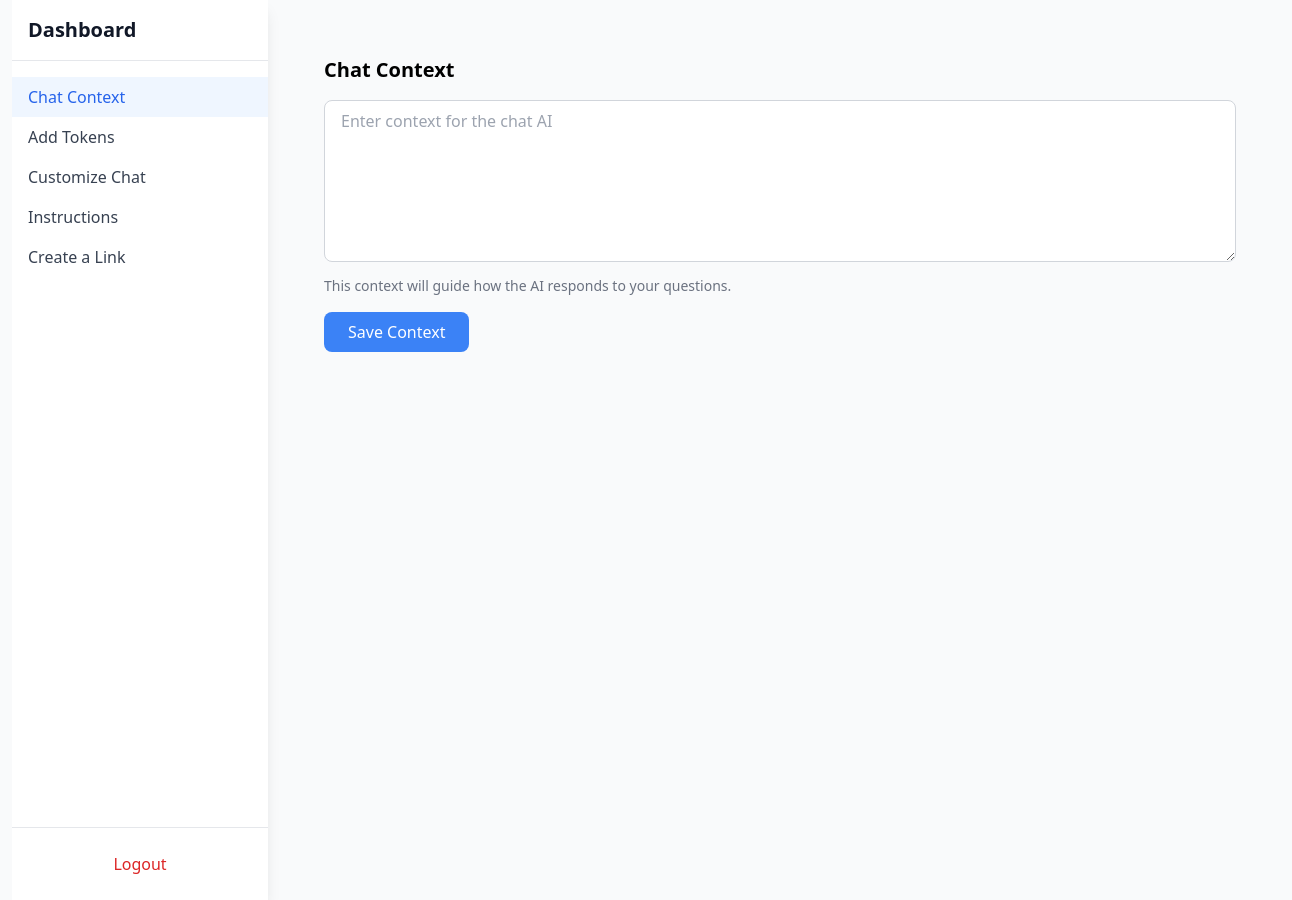
it: UserDashboard Component › switches to Add Tokens tab on click
The width and height of the screenshot is (1292, 900).
Click the button "Add Tokens": (140, 137) [12,117,268,157]
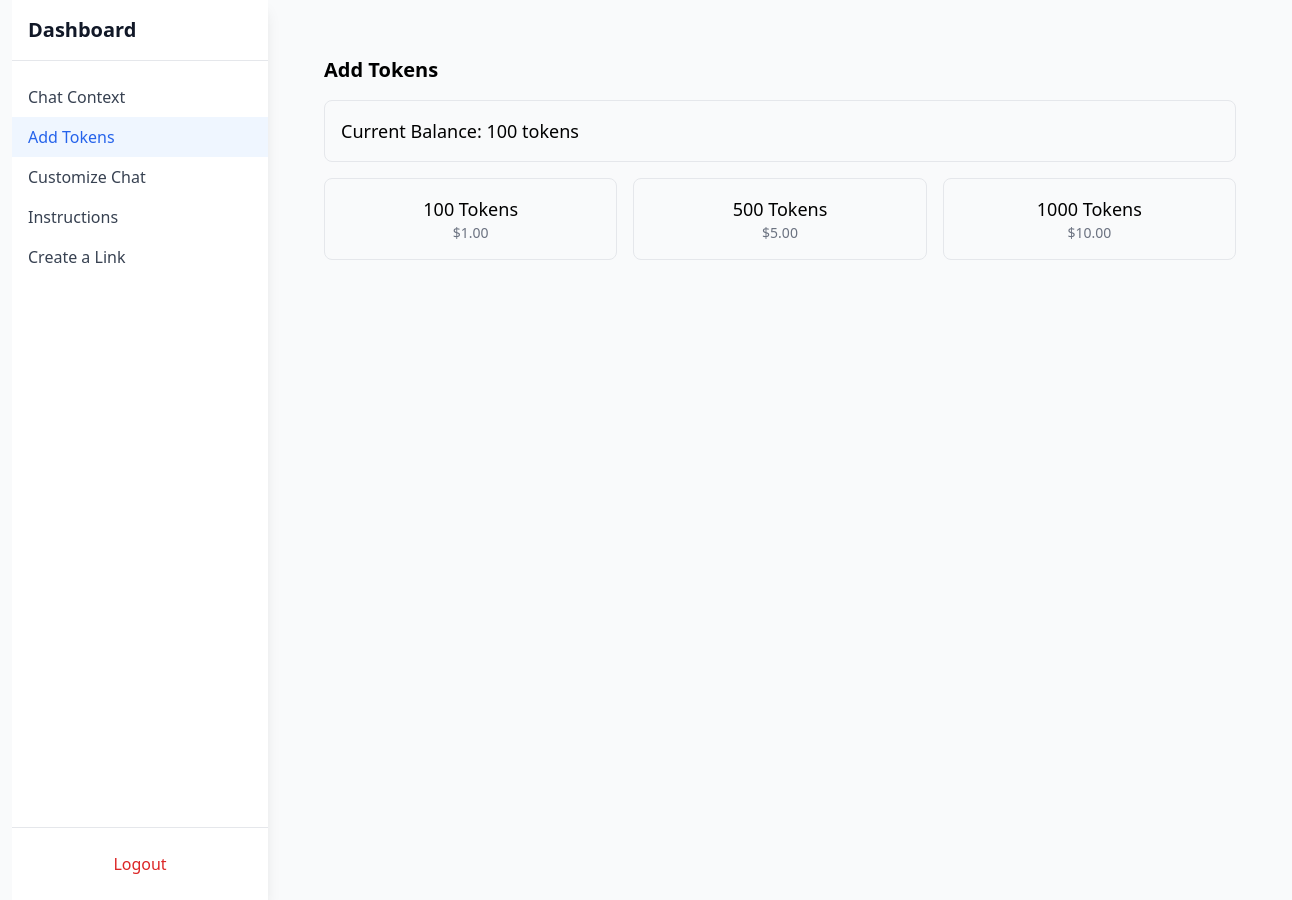
Now the text "Current Balance: 100 tokens" is shown, box [341,119,579,143]
